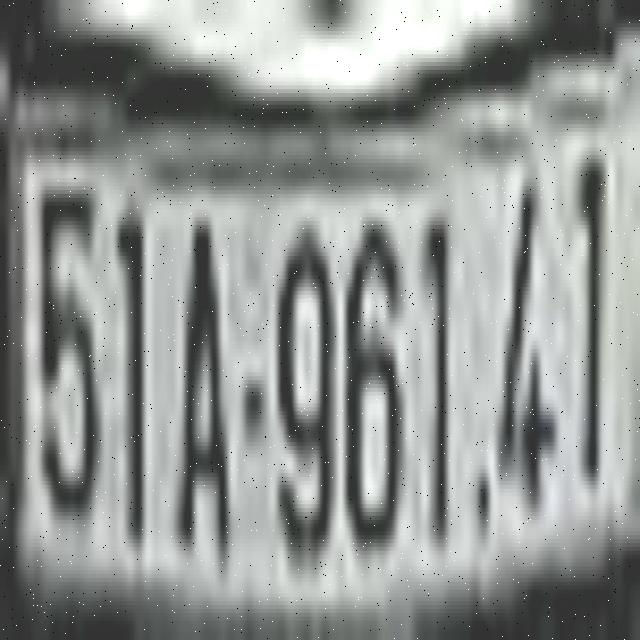1: (115, 180, 150, 553), (574, 134, 606, 494), (420, 198, 452, 547)
4: (498, 167, 556, 527)
5: (38, 167, 100, 527)
6: (344, 200, 402, 560)
9: (276, 210, 334, 562)
A: (176, 190, 233, 562)
